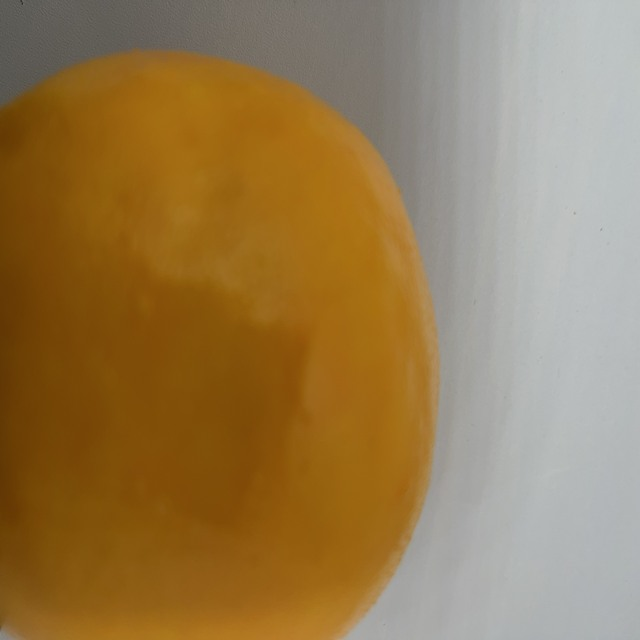Cam vang: (0, 50, 442, 640)
